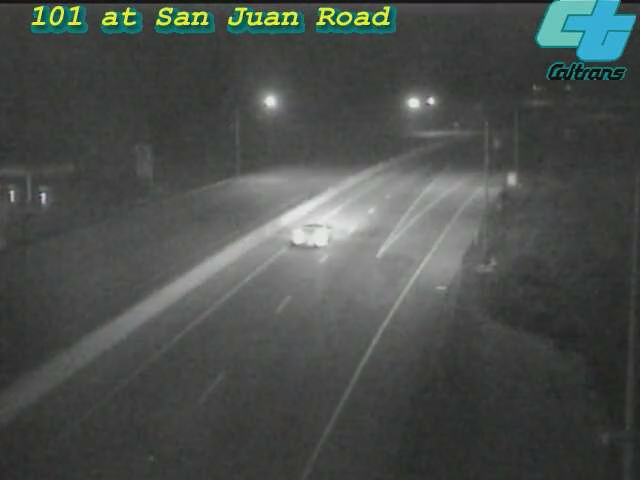vehicle: (275, 193, 355, 273)
